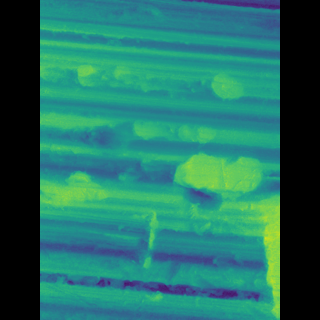Loch: (167, 147, 239, 204), (221, 203, 252, 320), (138, 115, 202, 147), (76, 167, 121, 211), (196, 68, 224, 101), (97, 63, 114, 88)
